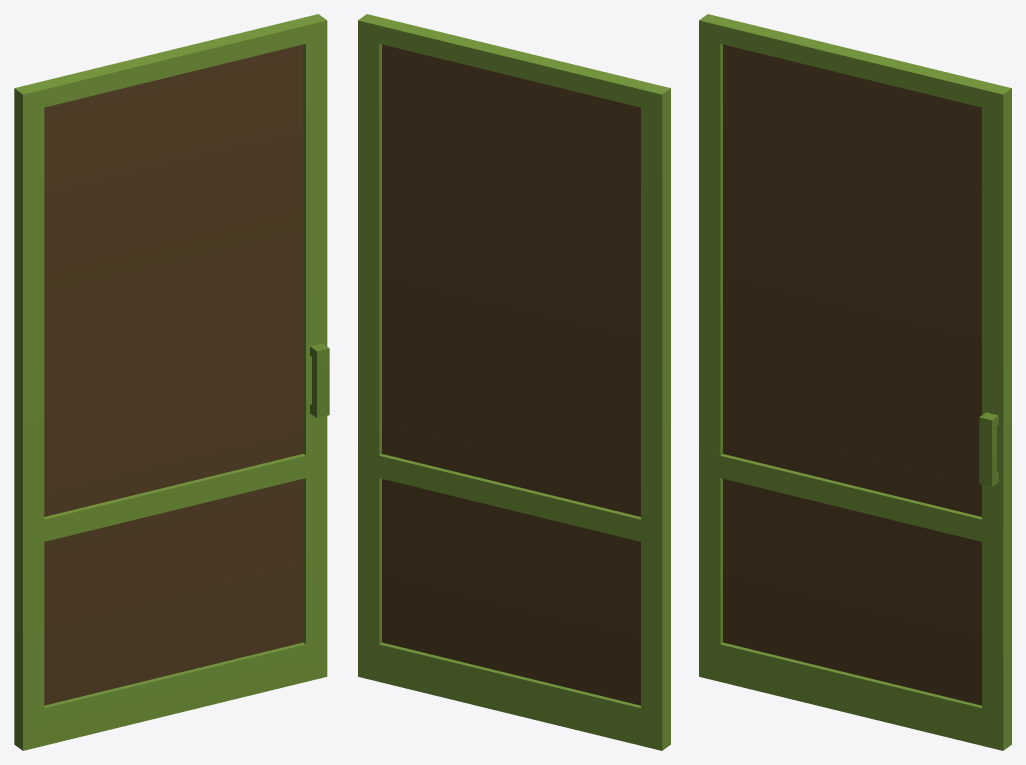
The model's file is SmallHouse_06_Door01.fbx.
3 renders of one model, left to right at view 1: azimuth 30°, elevation 25°; view 2: azimuth 150°, elevation 25°; view 3: azimuth 330°, elevation 25°, orthographic.
Parts seen in each view (by area): view 1: SmallHouse_06_Door01; view 2: SmallHouse_06_Door01; view 3: SmallHouse_06_Door01.
Boxes of the visible parts, x1=… form: SmallHouse_06_Door01: x1=14, y1=14, x2=329, y2=750; SmallHouse_06_Door01: x1=358, y1=14, x2=670, y2=750; SmallHouse_06_Door01: x1=699, y1=14, x2=1011, y2=750.
Size of the model in its own units: 1 by 2.06 by 0.0891.
